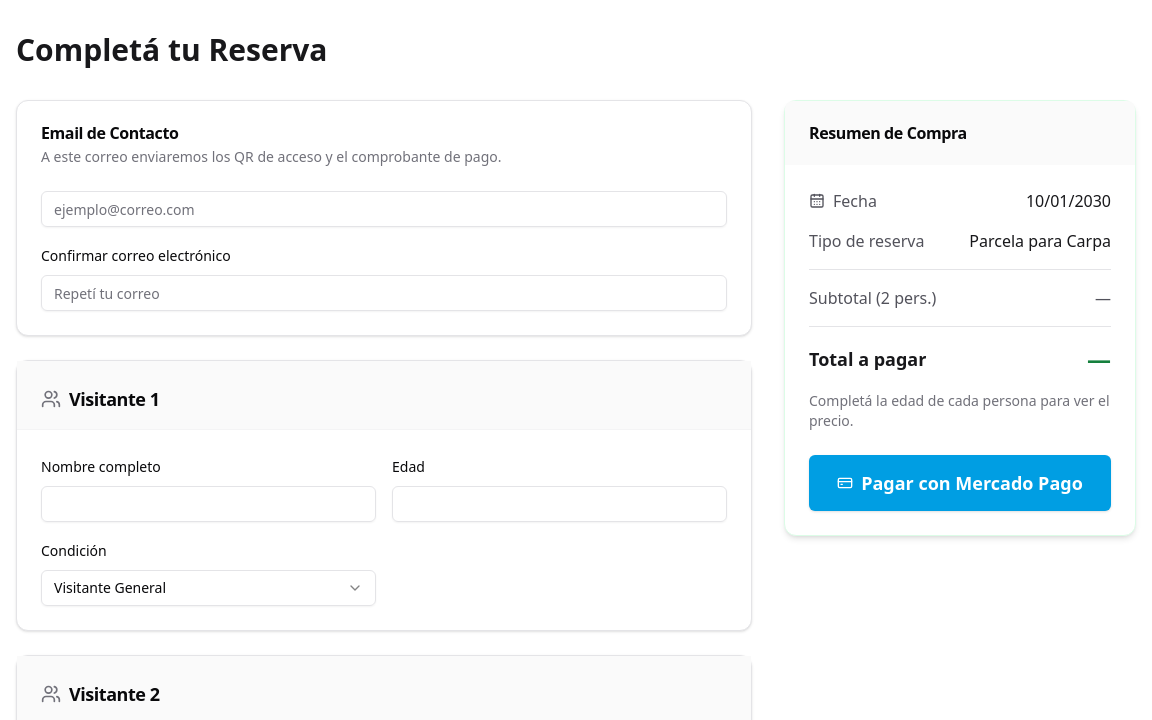
Test: Reservas: precio calculado por el backend › avisa si no se pudo calcular el precio y no inventa un importe
In the 4th field: (560, 504) [392,486,727,522], type "30"
(page scrolled)
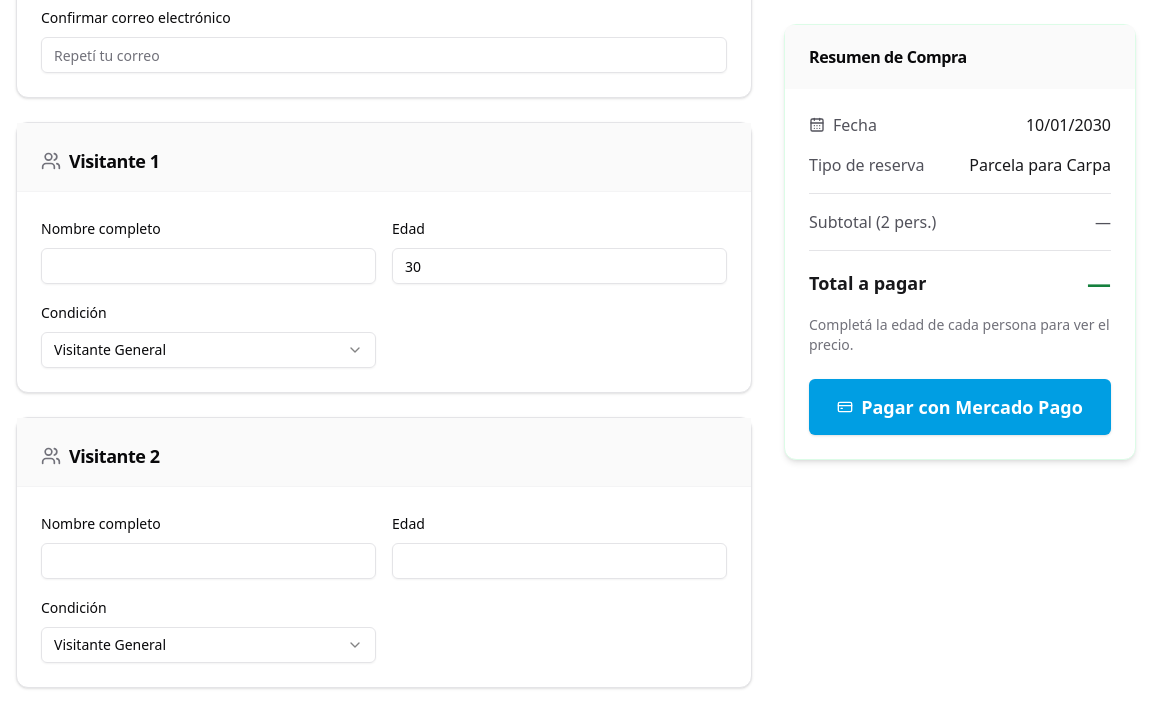
In the 5th field: (560, 561) [392,543,727,579], type "31"
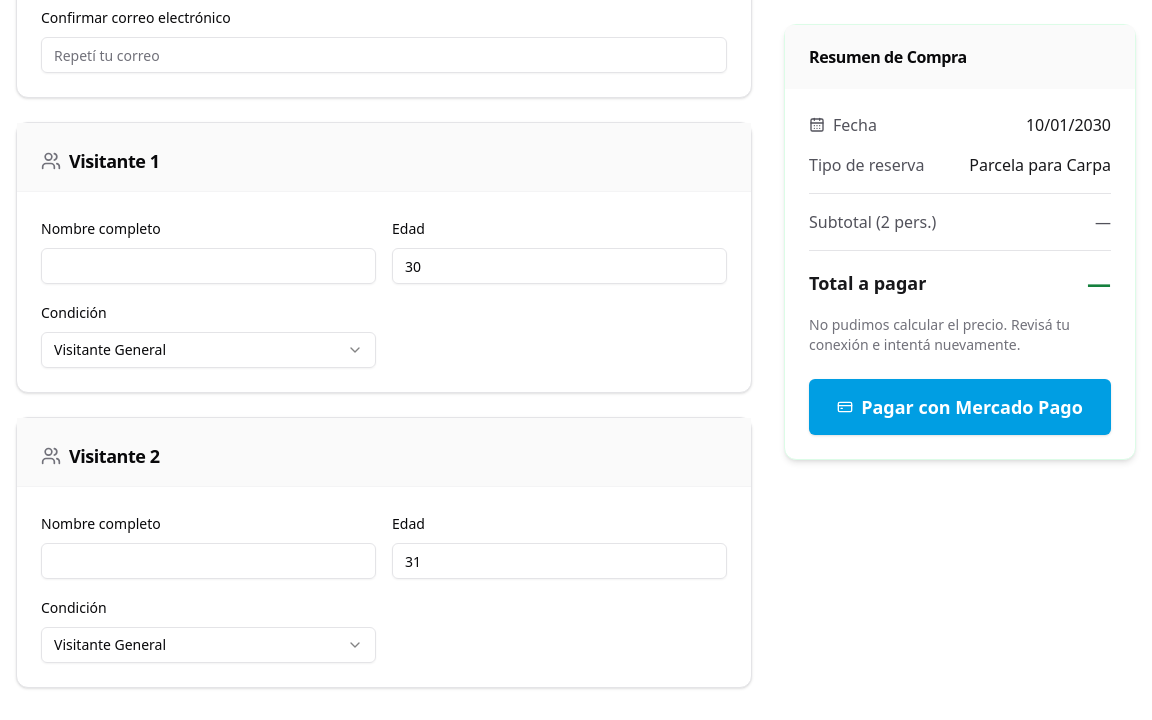
Now the text "No pudimos calcular el precio. Revisá tu conexión e intentá nuevamente." is shown, box [809,315,1111,355]
